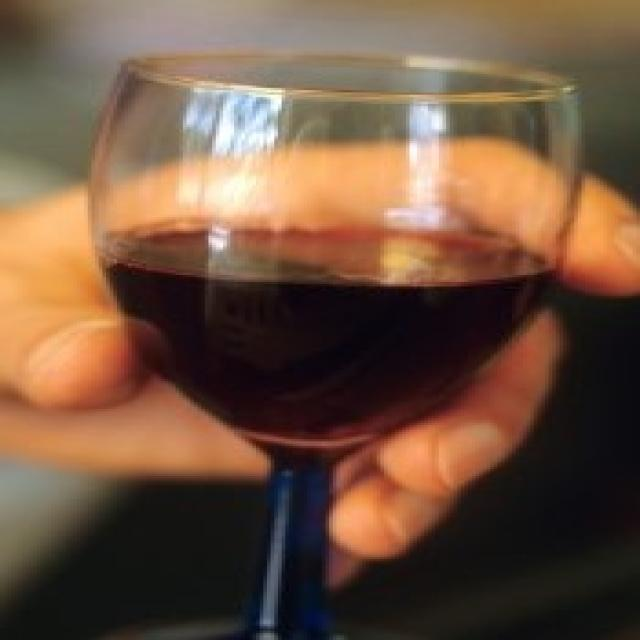electronic: (88, 39, 589, 640)
